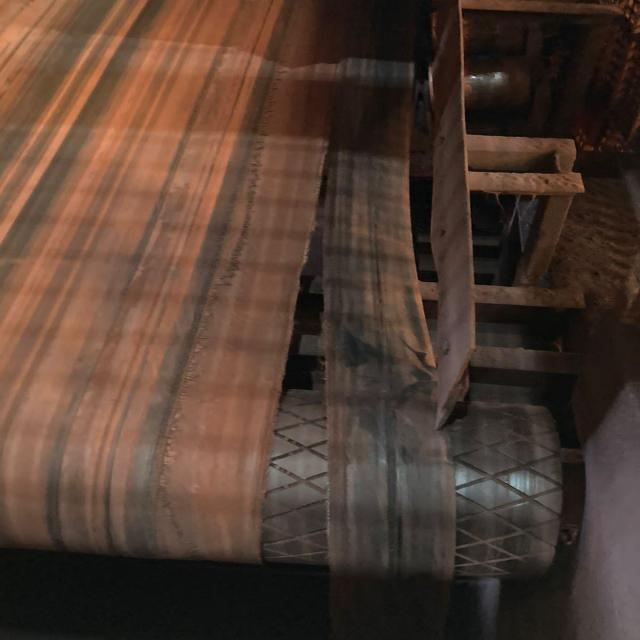Tear: (247, 115, 345, 564)
